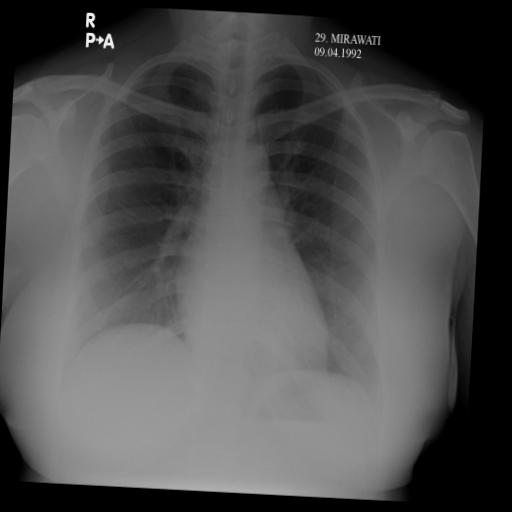normal: (43, 18, 405, 432)
